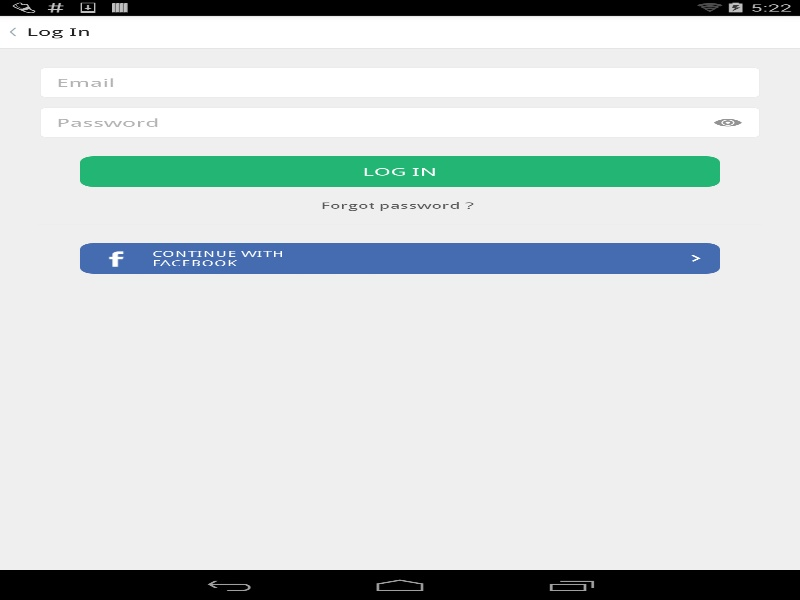Input: (40, 67, 760, 97), (40, 107, 760, 137)
